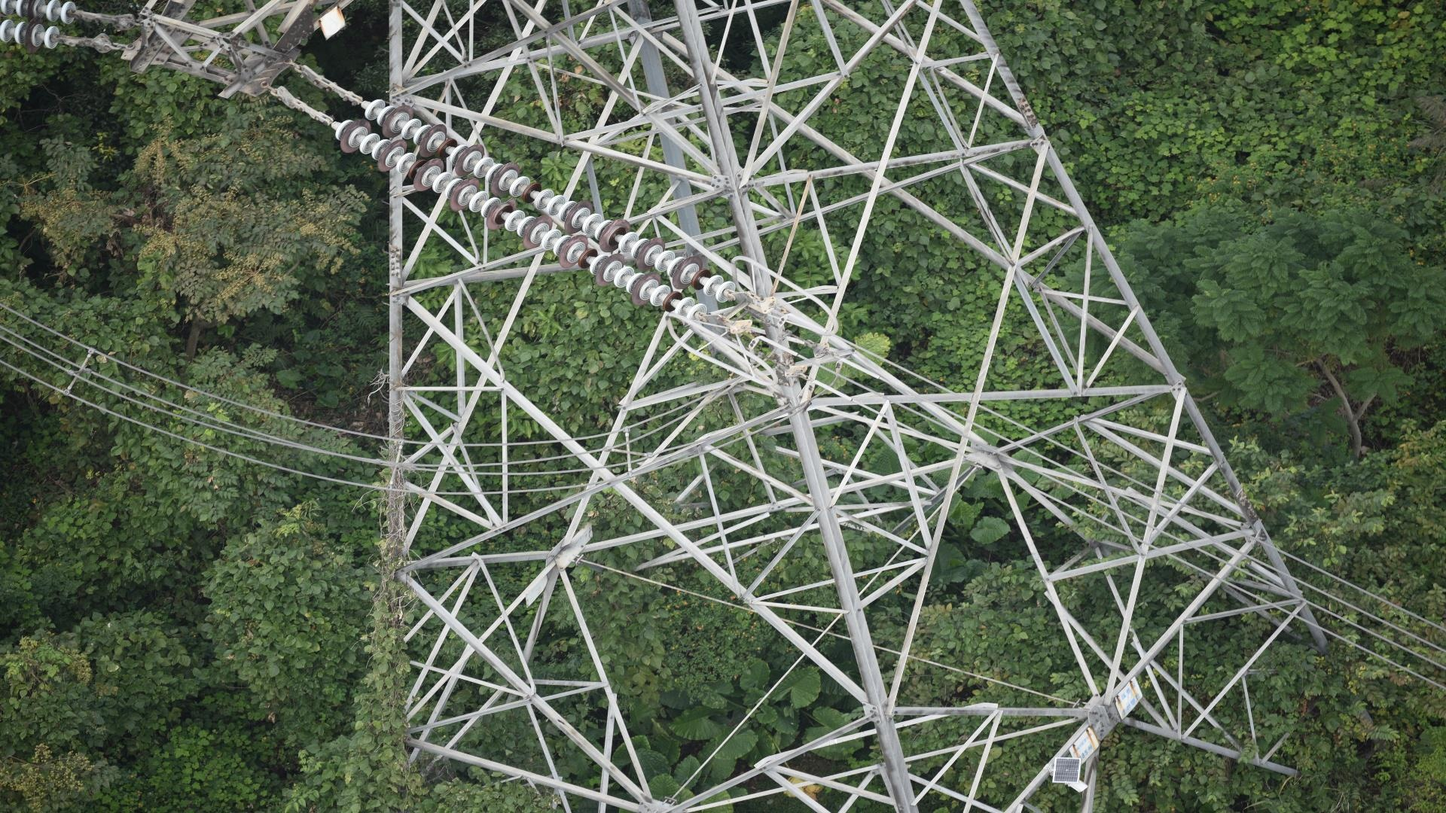insulator: (332, 95, 740, 326), (1, 1, 81, 52)
